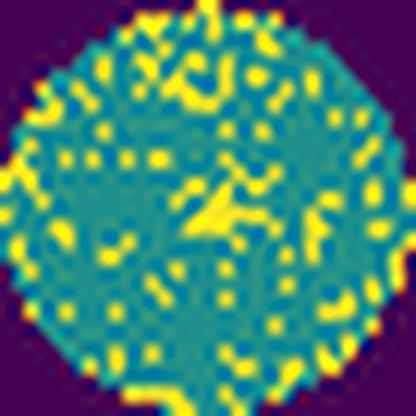Center: (174, 148, 284, 258)
